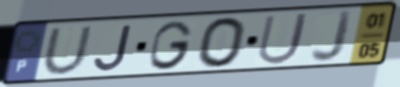G: (147, 19, 196, 72)
J: (308, 8, 356, 65), (92, 23, 135, 73)
O: (195, 15, 249, 70)
U: (254, 11, 312, 67), (40, 24, 96, 76)
